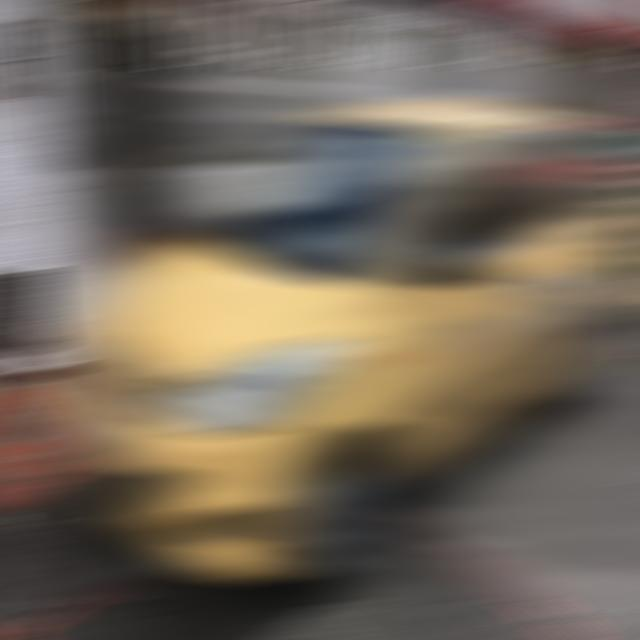Taxi: (52, 67, 640, 600)
